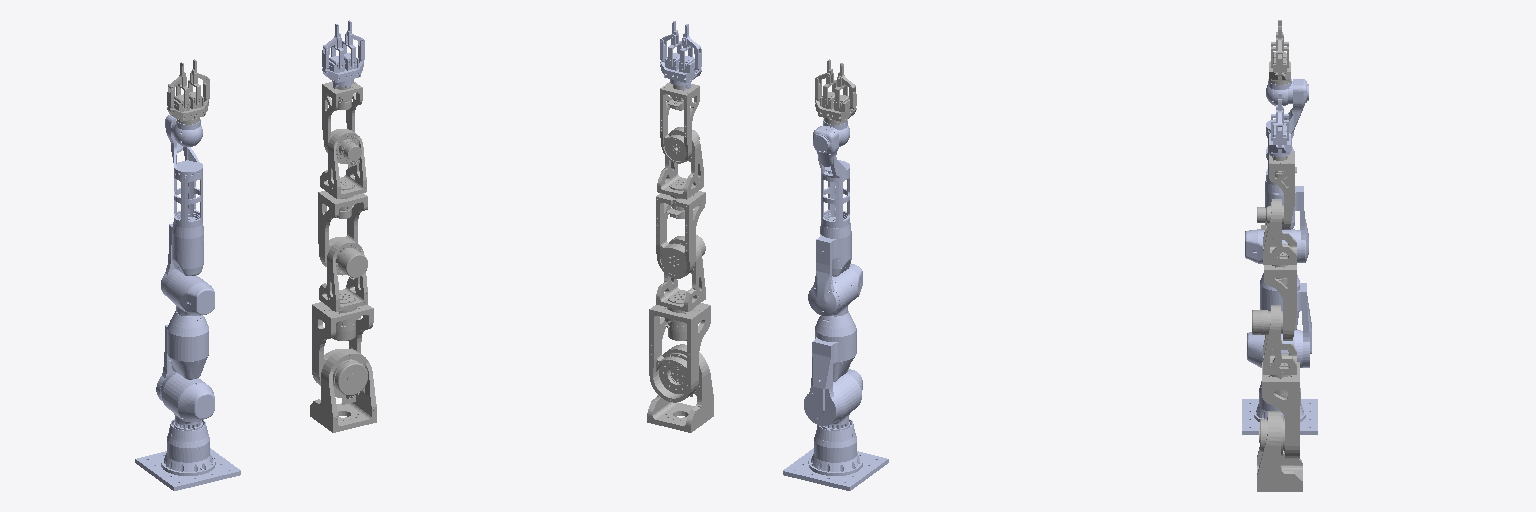
The robot description file, URDF, robot "mani1_config":
<robot
  name="mani1_config">


  <!-- make dummy joint -->

<joint name="dummy_joint" type="fixed">
    <origin xyz="0 0 0" rpy="0 0 0" />
    <child link="base_link"/>
    <parent link="dummy_link"/>
  </joint>


<!-- make dummy link -->

  <link name="dummy_link">
  </link>

  <gazebo reference="dummy_link">
    <material>Gazebo/White</material>
  </gazebo>






  <link
    name="base_link">
    <inertial>
      <origin
        xyz="1.56125112837913E-17 8.67361737988404E-17 0.05"
        rpy="0 0 0" />
      <mass
        value="100" />
      <inertia
        ixx="8.41666666666667"
        ixy="9.71445146547012E-16"
        ixz="-1.38777878078145E-17"
        iyy="8.41666666666666"
        iyz="9.25185853854297E-18"
        izz="16.6666666666667" />
    </inertial>
    <visual>
      <origin
        xyz="0 0 0"
        rpy="0 0 0" />
      <geometry>
        <mesh
          filename="package://mani1_config/meshes/base_link.STL" />
      </geometry>
      <material
        name="">
        <color
          rgba="0.792156862745098 0.819607843137255 0.933333333333333 1" />
      </material>
    </visual>
    <collision>
      <origin
        xyz="0 0 0"
        rpy="0 0 0" />
      <geometry>
        <mesh
          filename="package://mani1_config/meshes/base_link.STL" />
      </geometry>
    </collision>
  </link>






<!-- distance between two manipulator is 46cm (=0.46/2 =0.23) -->
<!-- height between base origin to manipulator base is 11.2cm (=0.112) -->

  <joint
    name="base_joint_left"
    type="fixed">
    <origin
      xyz="0.23 0 0.112"
      rpy="0 0 0" />
    <parent
      link="base_link" />
    <child
      link="mani1_base" />
    <axis
      xyz="0 0 0" />
  </joint>






  <link
    name="mani1_base">
    <inertial>
      <origin
        xyz="0.000214133185221511 -0.000263993773760912 -0.00611775454032076"
        rpy="0 0 0" />
      <mass
        value="3.57330907434109" />
      <inertia
        ixx="0.0125043470138794"
        ixy="4.69689009859497E-05"
        ixz="-9.0888380429557E-06"
        iyy="0.0124805069140377"
        iyz="1.10392895970441E-05"
        izz="0.0248975799456784" />
    </inertial>
    <visual>
      <origin
        xyz="0 0 0"
        rpy="0 0 0" />
      <geometry>
        <mesh
          filename="package://mani1_config/meshes/mani1_base.STL" />
      </geometry>
      <material
        name="">
        <color
          rgba="0.647058823529412 0.619607843137255 0.588235294117647 1" />
      </material>
    </visual>
    <collision>
      <origin
        xyz="0 0 0"
        rpy="0 0 0" />
      <geometry>
        <mesh
          filename="package://mani1_config/meshes/mani1_base.STL" />
      </geometry>
    </collision>
  </link>
  <link
    name="mani1_link1">
    <inertial>
      <origin
        xyz="-3.51872665886486E-06 -0.000870878275491564 -0.00474601269745995"
        rpy="0 0 0" />
      <mass
        value="0.446330780520445" />
      <inertia
        ixx="0.000441978892899946"
        ixy="9.59086613795905E-08"
        ixz="6.49516463430428E-08"
        iyy="0.000420405291605374"
        iyz="-5.37864589703489E-06"
        izz="0.000462095403932586" />
    </inertial>
    <visual>
      <origin
        xyz="0 0 0"
        rpy="0 0 0" />
      <geometry>
        <mesh
          filename="package://mani1_config/meshes/mani1_link1.STL" />
      </geometry>
      <material
        name="">
        <color
          rgba="0.792156862745098 0.819607843137255 0.933333333333333 1" />
      </material>
    </visual>
    <collision>
      <origin
        xyz="0 0 0"
        rpy="0 0 0" />
      <geometry>
        <mesh
          filename="package://mani1_config/meshes/mani1_link1.STL" />
      </geometry>
    </collision>
  </link>


  <joint
    name="mani1_fixed"
    type="fixed">
    <origin
      xyz="0 0 0"
      rpy="0 0 0" />
    <parent
      link="mani1_base" />
    <child
      link="mani1_link1" />
    <axis
      xyz="0 0 0" />
  </joint>



  <link
    name="mani1_link2">
    <inertial>
      <origin
        xyz="-6.49524381623627E-07 -0.0106338062219783 0.0790468559653485"
        rpy="0 0 0" />
      <mass
        value="2.1394698564504" />
      <inertia
        ixx="0.00933388216670083"
        ixy="-8.3479236244943E-07"
        ixz="6.3330829985724E-07"
        iyy="0.0116887123268387"
        iyz="0.000853478442579413"
        izz="0.0054725576811765" />
    </inertial>
    <visual>
      <origin
        xyz="0 0 0"
        rpy="0 0 0" />
      <geometry>
        <mesh
          filename="package://mani1_config/meshes/mani1_link2.STL" />
      </geometry>
      <material
        name="">
        <color
          rgba="0.752941176470588 0.752941176470588 0.752941176470588 1" />
      </material>
    </visual>
    <collision>
      <origin
        xyz="0 0 0"
        rpy="0 0 0" />
      <geometry>
        <mesh
          filename="package://mani1_config/meshes/mani1_link2.STL" />
      </geometry>
    </collision>
  </link>
  <joint
    name="mani1_joint1"
    type="revolute">
    <origin
      xyz="0 0 0.022"
      rpy="0 0 0" />
    <parent
      link="mani1_link1" />
    <child
      link="mani1_link2" />
    <axis
      xyz="0 0 1" />
    <limit
      lower="-2.74"
      upper="2.74"
      effort="100"
      velocity="0.8" />
  </joint>
  <link
    name="mani1_link3">
    <inertial>
      <origin
        xyz="9.97578023689037E-06 -0.096396260738586 0.0145605378238661"
        rpy="0 0 0" />
      <mass
        value="1.82427493800269" />
      <inertia
        ixx="0.0123597154706515"
        ixy="1.45225672257562E-06"
        ixz="2.66098831293768E-07"
        iyy="0.00465884584470388"
        iyz="-0.0016099441739936"
        izz="0.0145981943825196" />
    </inertial>
    <visual>
      <origin
        xyz="0 0 0"
        rpy="0 0 0" />
      <geometry>
        <mesh
          filename="package://mani1_config/meshes/mani1_link3.STL" />
      </geometry>
      <material
        name="">
        <color
          rgba="0.752941176470588 0.752941176470588 0.752941176470588 1" />
      </material>
    </visual>
    <collision>
      <origin
        xyz="0 0 0"
        rpy="0 0 0" />
      <geometry>
        <mesh
          filename="package://mani1_config/meshes/mani1_link3.STL" />
      </geometry>
    </collision>
  </link>
  <joint
    name="mani1_joint2"
    type="revolute">
    <origin
      xyz="0 0 0.133"
      rpy="-1.5708 1.0018E-33 -4.3239E-18" />
    <parent
      link="mani1_link2" />
    <child
      link="mani1_link3" />
    <axis
      xyz="0 0 -1" />
    <limit
      lower="-1.52"
      upper="1.52"
      effort="100"
      velocity="0.8" />
  </joint>
  <link
    name="mani1_link4">
    <inertial>
      <origin
        xyz="4.21635561466764E-07 -0.0119138976140091 0.0741259416420922"
        rpy="0 0 0" />
      <mass
        value="1.11094972876502" />
      <inertia
        ixx="0.00436016088344537"
        ixy="-2.3494039962872E-07"
        ixz="-2.01710559005772E-07"
        iyy="0.00465457365898766"
        iyz="0.000583991655089597"
        izz="0.00171072297566677" />
    </inertial>
    <visual>
      <origin
        xyz="0 0 0"
        rpy="0 0 0" />
      <geometry>
        <mesh
          filename="package://mani1_config/meshes/mani1_link4.STL" />
      </geometry>
      <material
        name="">
        <color
          rgba="0.752941176470588 0.752941176470588 0.752941176470588 1" />
      </material>
    </visual>
    <collision>
      <origin
        xyz="0 0 0"
        rpy="0 0 0" />
      <geometry>
        <mesh
          filename="package://mani1_config/meshes/mani1_link4.STL" />
      </geometry>
    </collision>
  </link>
  <joint
    name="mani1_joint3"
    type="revolute">
    <origin
      xyz="0 -0.2 0"
      rpy="1.5708 -4.3239E-18 0" />
    <parent
      link="mani1_link3" />
    <child
      link="mani1_link4" />
    <axis
      xyz="0 0 1" />
    <limit
      lower="-1.6"
      upper="1.6"
      effort="100"
      velocity="0.8" />
  </joint>
  <link
    name="mani1_link5">
    <inertial>
      <origin
        xyz="1.5231209961995E-05 -0.0885578081506746 0.0139839867335461"
        rpy="0 0 0" />
      <mass
        value="1.10694723668742" />
      <inertia
        ixx="0.00638512740402005"
        ixy="1.26114775658813E-06"
        ixz="-3.67727740947096E-07"
        iyy="0.00179774595704778"
        iyz="-0.000911685772003026"
        izz="0.00712624030232044" />
    </inertial>
    <visual>
      <origin
        xyz="0 0 0"
        rpy="0 0 0" />
      <geometry>
        <mesh
          filename="package://mani1_config/meshes/mani1_link5.STL" />
      </geometry>
      <material
        name="">
        <color
          rgba="0.752941176470588 0.752941176470588 0.752941176470588 1" />
      </material>
    </visual>
    <collision>
      <origin
        xyz="0 0 0"
        rpy="0 0 0" />
      <geometry>
        <mesh
          filename="package://mani1_config/meshes/mani1_link5.STL" />
      </geometry>
    </collision>
  </link>
  <joint
    name="mani1_joint4"
    type="revolute">
    <origin
      xyz="0 0 0.13"
      rpy="-1.5708 4.3366E-33 -6.2595E-17" />
    <parent
      link="mani1_link4" />
    <child
      link="mani1_link5" />
    <axis
      xyz="0 0 -1" />
    <limit
      lower="-1.78"
      upper="1.78"
      effort="100"
      velocity="0.8" />
  </joint>
  <link
    name="mani1_link6">
    <inertial>
      <origin
        xyz="2.29603452071085E-05 -0.00728511999418746 0.0627583259845416"
        rpy="0 0 0" />
      <mass
        value="0.888624094816857" />
      <inertia
        ixx="0.00300509646393665"
        ixy="1.01694662376443E-06"
        ixz="-8.01641358100054E-07"
        iyy="0.00332210196460049"
        iyz="0.000289757839226491"
        izz="0.00114424445227424" />
    </inertial>
    <visual>
      <origin
        xyz="0 0 0"
        rpy="0 0 0" />
      <geometry>
        <mesh
          filename="package://mani1_config/meshes/mani1_link6.STL" />
      </geometry>
      <material
        name="">
        <color
          rgba="0.752941176470588 0.752941176470588 0.752941176470588 1" />
      </material>
    </visual>
    <collision>
      <origin
        xyz="0 0 0"
        rpy="0 0 0" />
      <geometry>
        <mesh
          filename="package://mani1_config/meshes/mani1_link6.STL" />
      </geometry>
    </collision>
  </link>
  <joint
    name="mani1_joint5"
    type="revolute">
    <origin
      xyz="0 -0.189 0"
      rpy="1.5708 -6.2595E-17 0" />
    <parent
      link="mani1_link5" />
    <child
      link="mani1_link6" />
    <axis
      xyz="0 0 1" />
    <limit
      lower="-2.35"
      upper="2.35"
      effort="100"
      velocity="0.8" />
  </joint>
  <link
    name="mani1_link7">
    <inertial>
      <origin
        xyz="5.23366069636606E-07 -0.0970566798173588 0.0113923272499066"
        rpy="0 0 0" />
      <mass
        value="0.592227093253045" />
      <inertia
        ixx="0.00265106618523082"
        ixy="-1.63647435150486E-08"
        ixz="-7.36265473728024E-07"
        iyy="0.000643177021908098"
        iyz="-0.000273036189954506"
        izz="0.00292912135647666" />
    </inertial>
    <visual>
      <origin
        xyz="0 0 0"
        rpy="0 0 0" />
      <geometry>
        <mesh
          filename="package://mani1_config/meshes/mani1_link7.STL" />
      </geometry>
      <material
        name="">
        <color
          rgba="0.752941176470588 0.752941176470588 0.752941176470588 1" />
      </material>
    </visual>
    <collision>
      <origin
        xyz="0 0 0"
        rpy="0 0 0" />
      <geometry>
        <mesh
          filename="package://mani1_config/meshes/mani1_link7.STL" />
      </geometry>
    </collision>
  </link>
  <joint
    name="mani1_joint6"
    type="revolute">
    <origin
      xyz="0 0 0.125"
      rpy="-1.5708 -2.206E-48 2.6193E-32" />
    <parent
      link="mani1_link6" />
    <child
      link="mani1_link7" />
    <axis
      xyz="0 0 -1" />
    <limit
      lower="-1.78"
      upper="1.78"
      effort="100"
      velocity="0.8" />
  </joint>
  <link
    name="mani1_eff">
    <inertial>
      <origin
        xyz="-0.000133432671937198 -0.00026720248316253 0.0371126103217597"
        rpy="0 0 0" />
      <mass
        value="0.264591621524854" />
      <inertia
        ixx="0.000328897075428674"
        ixy="6.36751840475174E-07"
        ixz="-4.37613653992511E-06"
        iyy="0.000471727781170237"
        iyz="-1.51230461925619E-06"
        izz="0.000237270015047809" />
    </inertial>
    <visual>
      <origin
        xyz="0 0 0"
        rpy="0 0 0" />
      <geometry>
        <mesh
          filename="package://mani1_config/meshes/mani1_eff.STL" />
      </geometry>
      <material
        name="">
        <color
          rgba="0.792156862745098 0.819607843137255 0.933333333333333 1" />
      </material>
    </visual>
    <collision>
      <origin
        xyz="0 0 0"
        rpy="0 0 0" />
      <geometry>
        <mesh
          filename="package://mani1_config/meshes/mani1_eff.STL" />
      </geometry>
    </collision>
  </link>
  <joint
    name="mani1_joint7"
    type="revolute">
    <origin
      xyz="0 -0.1895 0"
      rpy="1.5708 2.6193E-32 0" />
    <parent
      link="mani1_link7" />
    <child
      link="mani1_eff" />
    <axis
      xyz="0 0 1" />
    <limit
      lower="-2.61"
      upper="2.61"
      effort="100"
      velocity="0.8" />
  </joint>













<!-- distance between two manipulator is 46cm (=0.46/2 =0.23) -->
<!-- height between base origin to manipulator base is 11.2cm (=0.112) -->

  <joint
    name="base_joint_right"
    type="fixed">
    <origin
      xyz="-0.23 0 0.112"
      rpy="0 0 0" />
    <parent
      link="base_link" />
    <child
      link="mani2_base" />
    <axis
      xyz="0 0 0" />
  </joint>



  <link
    name="mani2_base">
    <inertial>
      <origin
        xyz="1.97959527329819E-10 0.000122650399488422 0.0341469504763563"
        rpy="0 0 0" />
      <mass
        value="1.0280663793568" />
      <inertia
        ixx="0.00414721532795568"
        ixy="-5.49548192013201E-11"
        ixz="-9.12311082359067E-12"
        iyy="0.00414946878796714"
        iyz="-4.93277463545251E-06"
        izz="0.00435856653972013" />
    </inertial>
    <visual>
      <origin
        xyz="0 0 0"
        rpy="0 0 0" />
      <geometry>
        <mesh
          filename="package://mani1_config/meshes/mani2_base.STL" />
      </geometry>
      <material
        name="">
        <color
          rgba="0.792156862745098 0.819607843137255 0.933333333333333 1" />
      </material>
    </visual>
    <collision>
      <origin
        xyz="0 0 0"
        rpy="0 0 0" />
      <geometry>
        <mesh
          filename="package://mani1_config/meshes/mani2_base.STL" />
      </geometry>
    </collision>
  </link>

  <link
    name="mani2_link2">
    <inertial>
      <origin
        xyz="-4.0866E-05 0.021123 0.075652"
        rpy="0 0 0" />
      <mass
        value="0.53869" />
      <inertia
        ixx="0.0012067"
        ixy="6.8923E-07"
        ixz="-1.5046E-06"
        iyy="0.001046"
        iyz="-3.1922E-05"
        izz="0.0010791" />
    </inertial>
    <visual>
      <origin
        xyz="0 0 0"
        rpy="0 0 0" />
      <geometry>
        <mesh
          filename="package://mani1_config/meshes/mani2_link2.STL" />
      </geometry>
      <material
        name="">
        <color
          rgba="0.79216 0.81961 0.93333 1" />
      </material>
    </visual>
    <collision>
      <origin
        xyz="0 0 0"
        rpy="0 0 0" />
      <geometry>
        <mesh
          filename="package://mani1_config/meshes/mani2_link2.STL" />
      </geometry>
    </collision>
  </link>
 






 <joint
    name="mani2_joint1"
    type="revolute">
    <origin
      xyz="0 0 0.1125"
      rpy="6.123E-17 0 0" />
    <parent
      link="mani2_base" />
    <child
      link="mani2_link2" />
    <axis
      xyz="0 0 1" />
    <limit
      lower="-1.6"
      upper="1.6"
      effort="100"
      velocity="0.8" />
  </joint>







  <link
    name="mani2_link3">
    <inertial>
      <origin
        xyz="1.5796E-06 -0.1511 0.015227"
        rpy="0 0 0" />
      <mass
        value="0.5456" />
      <inertia
        ixx="0.0029482"
        ixy="-3.4034E-07"
        ixz="3.1372E-07"
        iyy="0.0011955"
        iyz="-0.00074241"
        izz="0.0025539" />
    </inertial>
    <visual>
      <origin
        xyz="0 0 0"
        rpy="0 0 0" />
      <geometry>
        <mesh
          filename="package://mani1_config/meshes/mani2_link3.STL" />
      </geometry>
      <material
        name="">
        <color
          rgba="0.79216 0.81961 0.93333 1" />
      </material>
    </visual>
    <collision>
      <origin
        xyz="0 0 0"
        rpy="0 0 0" />
      <geometry>
        <mesh
          filename="package://mani1_config/meshes/mani2_link3.STL" />
      </geometry>
    </collision>
  </link>
  <joint
    name="mani2_joint2"
    type="revolute">
    <origin
      xyz="0 0 0.08"
      rpy="-1.5708 -1.2246E-16 1.4997E-32" />
    <parent
      link="mani2_link2" />
    <child
      link="mani2_link3" />
    <axis
      xyz="0 0 1" />
    <limit
      lower="-1.6"
      upper="1.6"
      effort="100"
      velocity="0.8" />
  </joint>
  <link
    name="mani2_link4">
    <inertial>
      <origin
        xyz="4.4431E-05 0.015991 0.082592"
        rpy="0 0 0" />
      <mass
        value="0.38216" />
      <inertia
        ixx="0.00080362"
        ixy="-2.4425E-07"
        ixz="1.0241E-06"
        iyy="0.00056579"
        iyz="-3.0014E-05"
        izz="0.00067534" />
    </inertial>
    <visual>
      <origin
        xyz="0 0 0"
        rpy="0 0 0" />
      <geometry>
        <mesh
          filename="package://mani1_config/meshes/mani2_link4.STL" />
      </geometry>
      <material
        name="">
        <color
          rgba="0.79216 0.81961 0.93333 1" />
      </material>
    </visual>
    <collision>
      <origin
        xyz="0 0 0"
        rpy="0 0 0" />
      <geometry>
        <mesh
          filename="package://mani1_config/meshes/mani2_link4.STL" />
      </geometry>
    </collision>
  </link>
  <joint
    name="mani2_joint3"
    type="revolute">
    <origin
      xyz="0 -0.211 0"
      rpy="1.5708 0 1.2246E-16" />
    <parent
      link="mani2_link3" />
    <child
      link="mani2_link4" />
    <axis
      xyz="0 0 1" />
    <limit
      lower="-1.6"
      upper="1.6"
      effort="100"
      velocity="0.8" />
  </joint>
  <link
    name="mani2_link5">
    <inertial>
      <origin
        xyz="-0.00010955 -0.13127 0.015556"
        rpy="0 0 0" />
      <mass
        value="0.34477" />
      <inertia
        ixx="0.0014747"
        ixy="-1.3036E-06"
        ixz="1.5048E-07"
        iyy="0.00050678"
        iyz="-0.00036636"
        izz="0.0012721" />
    </inertial>
    <visual>
      <origin
        xyz="0 0 0"
        rpy="0 0 0" />
      <geometry>
        <mesh
          filename="package://mani1_config/meshes/mani2_link5.STL" />
      </geometry>
      <material
        name="">
        <color
          rgba="0.79216 0.81961 0.93333 1" />
      </material>
    </visual>
    <collision>
      <origin
        xyz="0 0 0"
        rpy="0 0 0" />
      <geometry>
        <mesh
          filename="package://mani1_config/meshes/mani2_link5.STL" />
      </geometry>
    </collision>
  </link>
  <joint
    name="mani2_joint4"
    type="revolute">
    <origin
      xyz="0 0 0.089"
      rpy="-1.5708 1.2246E-16 -1.4997E-32" />
    <parent
      link="mani2_link4" />
    <child
      link="mani2_link5" />
    <axis
      xyz="0 0 1" />
    <limit
      lower="-1.6"
      upper="1.6"
      effort="100"
      velocity="0.8" />
  </joint>
  <link
    name="mani2_link6">
    <inertial>
      <origin
        xyz="3.9049E-05 0.024475 0.16254"
        rpy="0 0 0" />
      <mass
        value="0.25794" />
      <inertia
        ixx="0.0024806"
        ixy="-4.5125E-07"
        ixz="-2.0865E-06"
        iyy="0.0023381"
        iyz="-0.00053561"
        izz="0.00037044" />
    </inertial>
    <visual>
      <origin
        xyz="0 0 0"
        rpy="0 0 0" />
      <geometry>
        <mesh
          filename="package://mani1_config/meshes/mani2_link6.STL" />
      </geometry>
      <material
        name="">
        <color
          rgba="0.79216 0.81961 0.93333 1" />
      </material>
    </visual>
    <collision>
      <origin
        xyz="0 0 0"
        rpy="0 0 0" />
      <geometry>
        <mesh
          filename="package://mani1_config/meshes/mani2_link6.STL" />
      </geometry>
    </collision>
  </link>
  <joint
    name="mani2_joint5"
    type="revolute">
    <origin
      xyz="0 -0.192 0"
      rpy="1.5708 0 -1.2246E-16" />
    <parent
      link="mani2_link5" />
    <child
      link="mani2_link6" />
    <axis
      xyz="0 0 1" />
    <limit
      lower="-1.6"
      upper="1.6"
      effort="100"
      velocity="0.8" />
  </joint>
  <link
    name="mani2_link7">
    <inertial>
      <origin
        xyz="-1.2744E-07 -0.0039301 0.00163"
        rpy="0 0 0" />
      <mass
        value="0.085765" />
      <inertia
        ixx="4.9521E-05"
        ixy="3.1372E-11"
        ixz="2.1472E-08"
        iyy="5.5321E-05"
        iyz="-8.9092E-07"
        izz="4.8098E-05" />
    </inertial>
    <visual>
      <origin
        xyz="0 0 0"
        rpy="0 0 0" />
      <geometry>
        <mesh
          filename="package://mani1_config/meshes/mani2_link7.STL" />
      </geometry>
      <material
        name="">
        <color
          rgba="0.79216 0.81961 0.93333 1" />
      </material>
    </visual>
    <collision>
      <origin
        xyz="0 0 0"
        rpy="0 0 0" />
      <geometry>
        <mesh
          filename="package://mani1_config/meshes/mani2_link7.STL" />
      </geometry>
    </collision>
  </link>
  <joint
    name="mani2_joint6"
    type="revolute">
    <origin
      xyz="0 0 0.258"
      rpy="-1.5708 1.2246E-16 1.4997E-32" />
    <parent
      link="mani2_link6" />
    <child
      link="mani2_link7" />
    <axis
      xyz="0 0 1" />
    <limit
      lower="-1.6"
      upper="1.6"
      effort="100"
      velocity="0.8" />
  </joint>
  <link
    name="mani2_link8">
    <inertial>
      <origin
        xyz="0.000106683288908073 -6.92912993472234E-05 0.0450290416907149"
        rpy="0 0 0" />
      <mass
        value="0.280769723735081" />
      <inertia
        ixx="0.000365119430776465"
        ixy="6.26730661839489E-07"
        ixz="-1.96011098720024E-06"
        iyy="0.000507982667175265"
        iyz="9.01466101450948E-07"
        izz="0.000251045106293643" />
    </inertial>
    <visual>
      <origin
        xyz="0 0 0"
        rpy="0 0 0" />
      <geometry>
        <mesh
          filename="package://mani1_config/meshes/mani2_link8.STL" />
      </geometry>
      <material
        name="">
        <color
          rgba="0.752941176470588 0.752941176470588 0.752941176470588 1" />
      </material>
    </visual>
    <collision>
      <origin
        xyz="0 0 0"
        rpy="0 0 0" />
      <geometry>
        <mesh
          filename="package://mani1_config/meshes/mani2_link8.STL" />
      </geometry>
    </collision>
  </link>
  <joint
    name="mani2_joint7"
    type="revolute">
    <origin
      xyz="0 -0.0325 0"
      rpy="1.5708 0 -1.2246E-16" />
    <parent
      link="mani2_link7" />
    <child
      link="mani2_link8" />
    <axis
      xyz="0 0 1" />
    <limit
      lower="-1.6"
      upper="1.6"
      effort="100"
      velocity="0.8" />
  </joint>














</robot>

--- Facts derived from the render (not from the file) ---
Views: 3 orthographic renders of the robot side by side, from view 1: azimuth 30°, elevation 25°; view 2: azimuth 150°, elevation 25°; view 3: azimuth 270°, elevation 25°.
Model mani1_config with 19 links and 18 joints (14 revolute, 4 fixed), rooted at dummy_link, posed all joints at 0.
Visible links, largest first — view 1: mani1_link2, mani2_base, mani2_link3, mani1_link4, mani1_link3, mani1_link6, mani2_link6, mani2_link2, mani1_link5, mani1_eff, mani2_link8, mani2_link4 (+3 smaller); view 2: mani1_link3, mani2_base, mani2_link3, mani1_link5, mani1_link2, mani2_link5, mani2_link6, mani1_link7, mani1_eff, mani2_link8, mani1_link4, mani1_link6 (+2 smaller); view 3: mani1_link2, mani1_link3, mani1_link4, mani1_link6, mani2_base, mani1_link5, mani2_link3, mani1_link7, mani2_link5, mani2_link8, mani1_eff, mani2_link6 (+2 smaller).
Link boxes in pixels (left/top/right/bottom): mani1_link2: left=310, top=349, right=376, bottom=432; mani2_base: left=135, top=419, right=240, bottom=490; mani2_link3: left=156, top=311, right=208, bottom=400; mani1_link4: left=319, top=239, right=367, bottom=311; mani1_link3: left=312, top=302, right=373, bottom=385; mani1_link6: left=320, top=129, right=366, bottom=198; mani2_link6: left=165, top=115, right=202, bottom=227; mani2_link2: left=160, top=372, right=214, bottom=429; mani1_link5: left=318, top=191, right=367, bottom=266; mani1_eff: left=322, top=20, right=364, bottom=89; mani2_link8: left=167, top=59, right=209, bottom=124; mani2_link4: left=163, top=269, right=214, bottom=315; mani1_link3: left=649, top=303, right=710, bottom=402; mani2_base: left=783, top=419, right=888, bottom=490; mani2_link3: left=804, top=311, right=856, bottom=425; mani1_link5: left=656, top=191, right=705, bottom=278; mani1_link2: left=647, top=344, right=713, bottom=432; mani2_link5: left=808, top=223, right=851, bottom=315; mani2_link6: left=813, top=126, right=849, bottom=228; mani1_link7: left=660, top=82, right=699, bottom=163; mani1_eff: left=660, top=21, right=701, bottom=89; mani2_link8: left=815, top=59, right=856, bottom=124; mani1_link4: left=656, top=235, right=705, bottom=311; mani1_link6: left=657, top=127, right=703, bottom=199; mani1_link2: left=1257, top=411, right=1302, bottom=491; mani1_link3: left=1262, top=362, right=1299, bottom=458; mani1_link4: left=1252, top=305, right=1296, bottom=374; mani1_link6: left=1257, top=199, right=1296, bottom=264; mani2_base: left=1242, top=381, right=1317, bottom=434; mani1_link5: left=1264, top=265, right=1296, bottom=340; mani2_link3: left=1260, top=273, right=1311, bottom=367; mani1_link7: left=1269, top=151, right=1296, bottom=229; mani2_link5: left=1265, top=181, right=1308, bottom=262; mani2_link8: left=1269, top=20, right=1290, bottom=84; mani1_eff: left=1269, top=93, right=1290, bottom=156; mani2_link6: left=1266, top=79, right=1308, bottom=184.
Bounding box of the posed robot: 0.625 × 0.2 × 1.16 m (x, y, z).
Meshes: 18 distinct files referenced, 15 mesh visuals loaded (15 binary STL); not drawn: 3 (reference not matched to a file when rendering).
